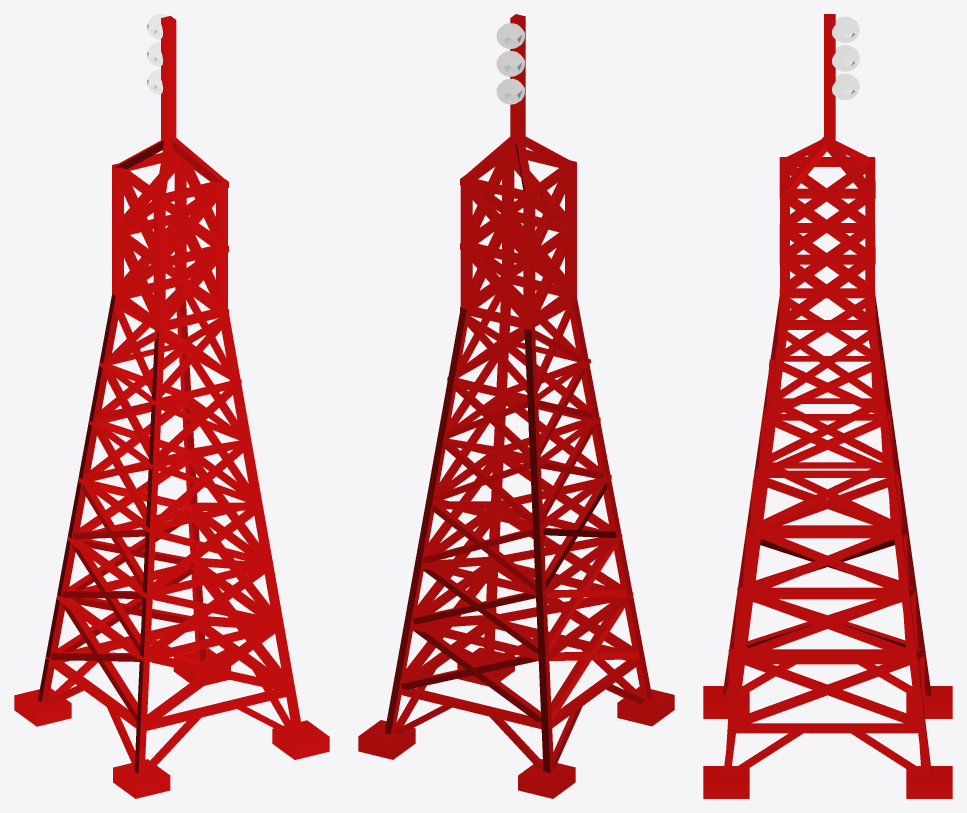
File: Radio tower.gltf
3 renders of one model, left to right at view 1: azimuth 30°, elevation 25°; view 2: azimuth 150°, elevation 25°; view 3: azimuth 270°, elevation 25°, orthographic. The views are drawn at different scales.
Parts seen in each view (by area): view 1: node-0; view 2: node-0; view 3: node-0.
Part boxes in pixels (bbox=[...]): node-0: bbox=[14, 14, 329, 798]; node-0: bbox=[358, 14, 674, 798]; node-0: bbox=[703, 14, 952, 798].
Size of the model in its own units: 4031 by 14143 by 4360.
